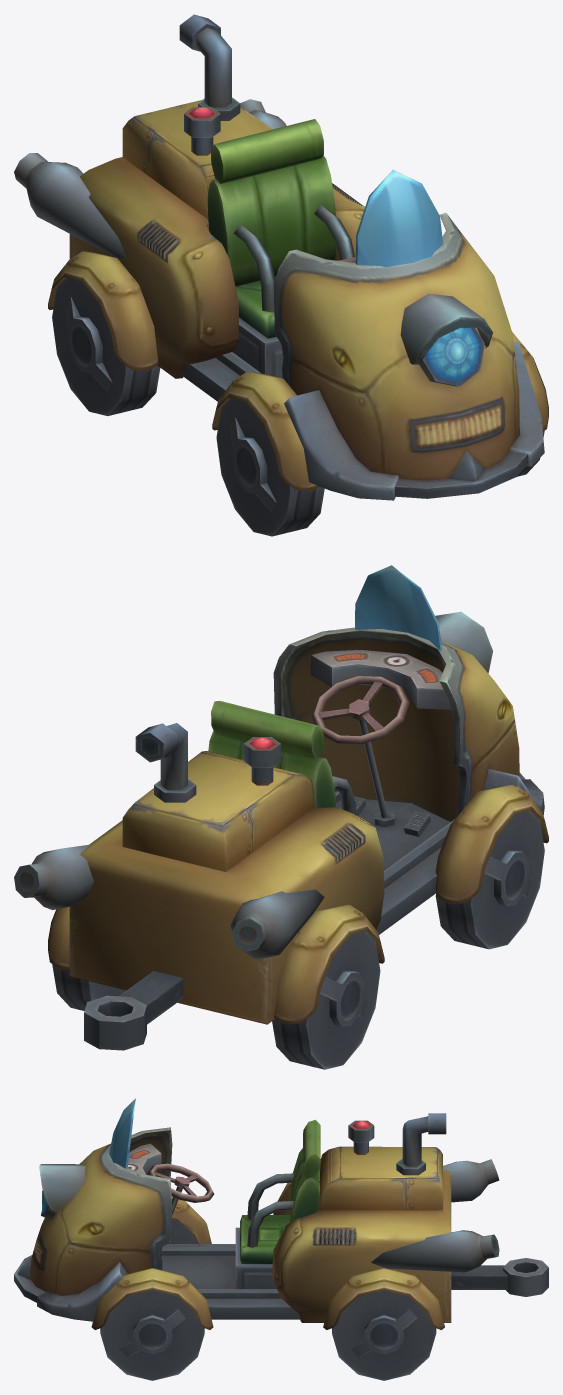
The model's file is scene_malujiakuangdao_xiaoche01.FBX.
3 views of the same model, one above another, from view 1: azimuth 30°, elevation 25°; view 2: azimuth 150°, elevation 25°; view 3: azimuth 270°, elevation 25° (orthographic). The views are drawn at different scales.
Visible parts, largest first — view 1: scene_malujiakuangdao_xiaoche01; view 2: scene_malujiakuangdao_xiaoche01; view 3: scene_malujiakuangdao_xiaoche01.
Part boxes in pixels (x1,y1,x2,y2): scene_malujiakuangdao_xiaoche01: (14, 14, 548, 536); scene_malujiakuangdao_xiaoche01: (14, 565, 548, 1069); scene_malujiakuangdao_xiaoche01: (14, 1098, 548, 1380).
Bounding box in the file's own units: 205 × 247 × 500.
